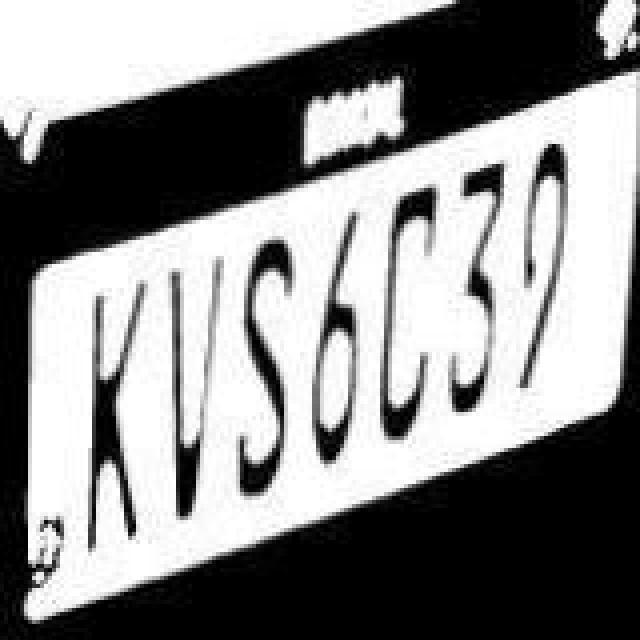3: (444, 154, 504, 426)
6: (314, 208, 370, 492)
9: (512, 132, 572, 404)
C: (384, 188, 444, 464)
K: (92, 272, 152, 568)
S: (228, 232, 312, 508)
V: (162, 254, 234, 534)
